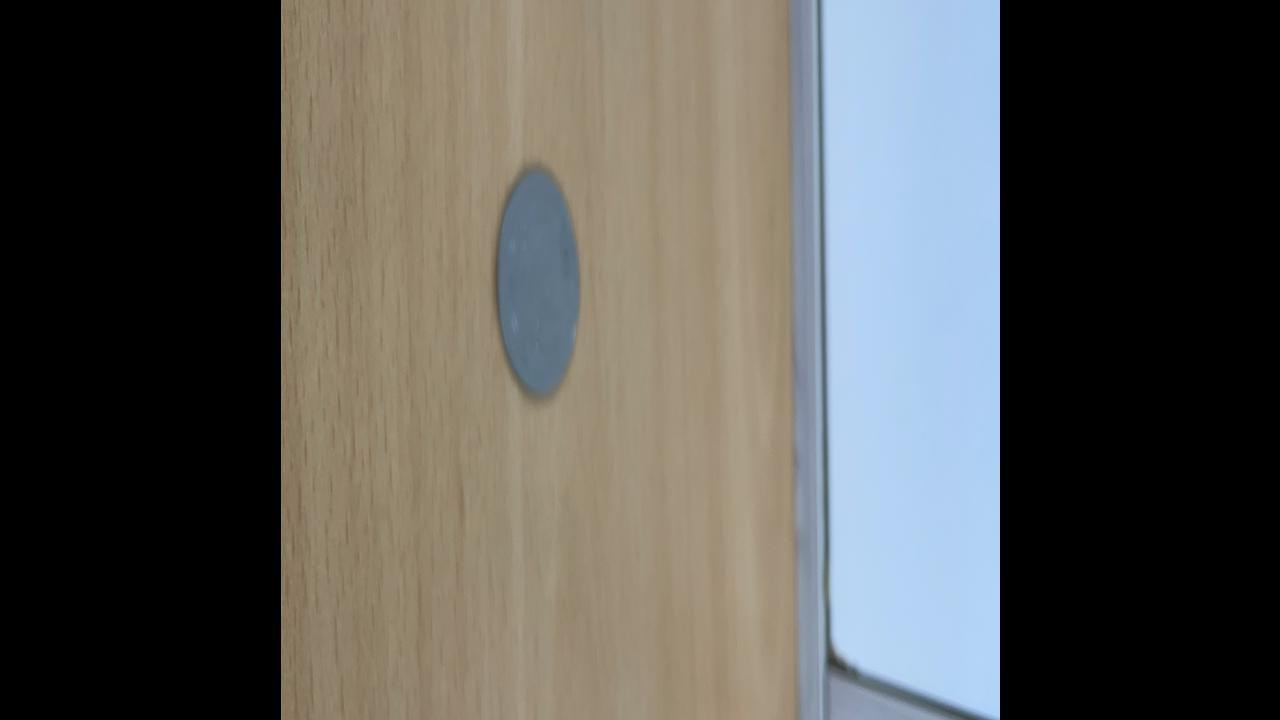coin: (494, 162, 582, 402)
